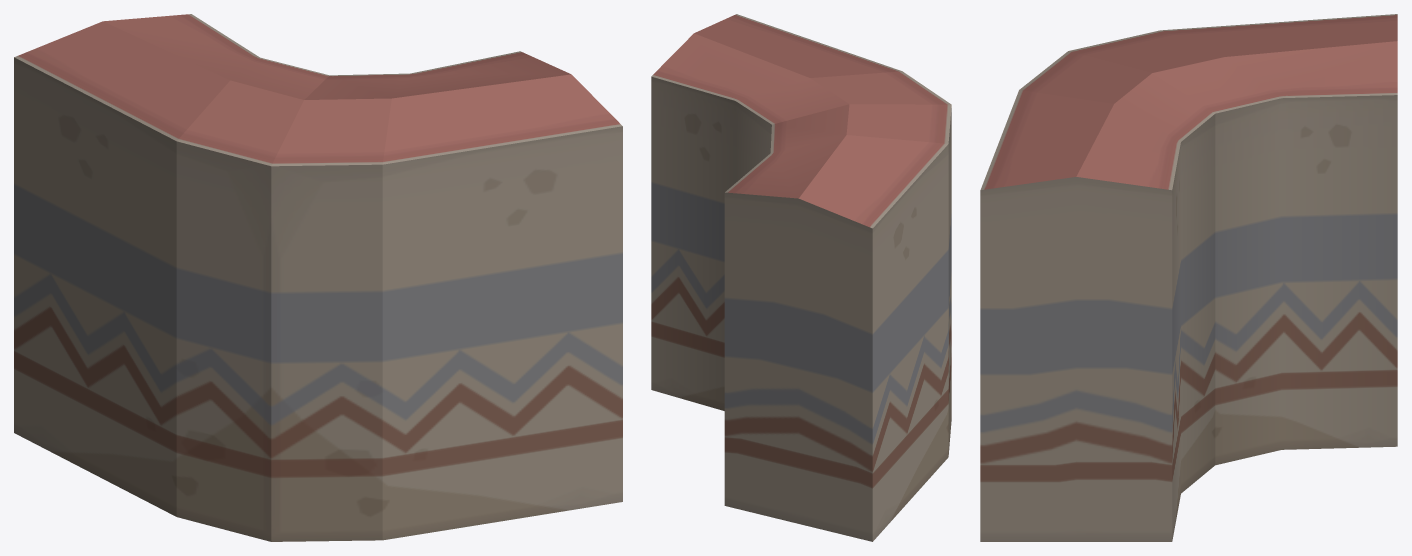
The model's file is SM_Bld_Wall_Balcony_Corner_Ground_01.fbx.
3 views of the same model, side by side, from view 1: azimuth 30°, elevation 25°; view 2: azimuth 150°, elevation 25°; view 3: azimuth 270°, elevation 25° (orthographic). The views are drawn at different scales.
Parts seen in each view (by area): view 1: SM_Bld_Wall_Balcony_Corner_Ground_01; view 2: SM_Bld_Wall_Balcony_Corner_Ground_01; view 3: SM_Bld_Wall_Balcony_Corner_Ground_01.
Boxes of the visible parts, <box> form: SM_Bld_Wall_Balcony_Corner_Ground_01: <box>14,14,622,541</box>; SM_Bld_Wall_Balcony_Corner_Ground_01: <box>651,14,951,541</box>; SM_Bld_Wall_Balcony_Corner_Ground_01: <box>980,14,1397,541</box>.
Size of the model in its own units: 49.2 by 47.52 by 49.2.
